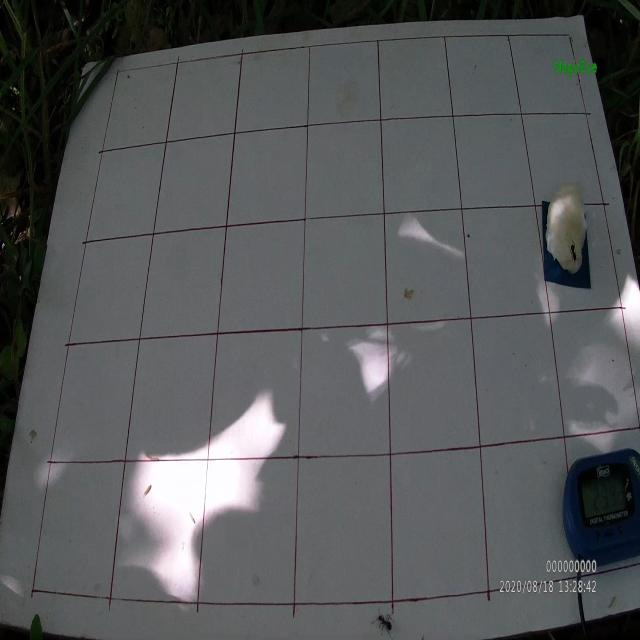Ant: (370, 606, 396, 638), (568, 237, 579, 264)
